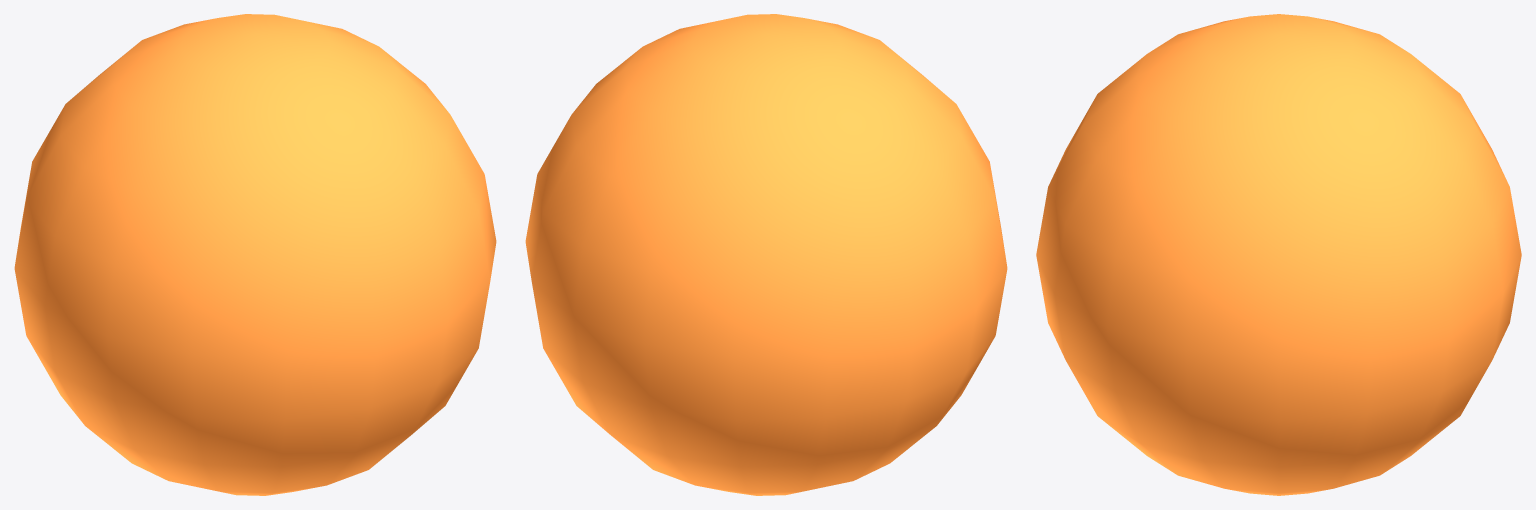
3 views of the same model, side by side, from view 1: azimuth 30°, elevation 25°; view 2: azimuth 150°, elevation 25°; view 3: azimuth 270°, elevation 25° (orthographic).
Parts seen in each view (by area): view 1: sphere-amber; view 2: sphere-amber; view 3: sphere-amber.
Boxes of the visible parts, x1,y1,x2,y2 form: sphere-amber: [14, 14, 496, 495]; sphere-amber: [525, 14, 1007, 495]; sphere-amber: [1036, 14, 1521, 495].
Size of the model in its own units: 1 by 1 by 1.
